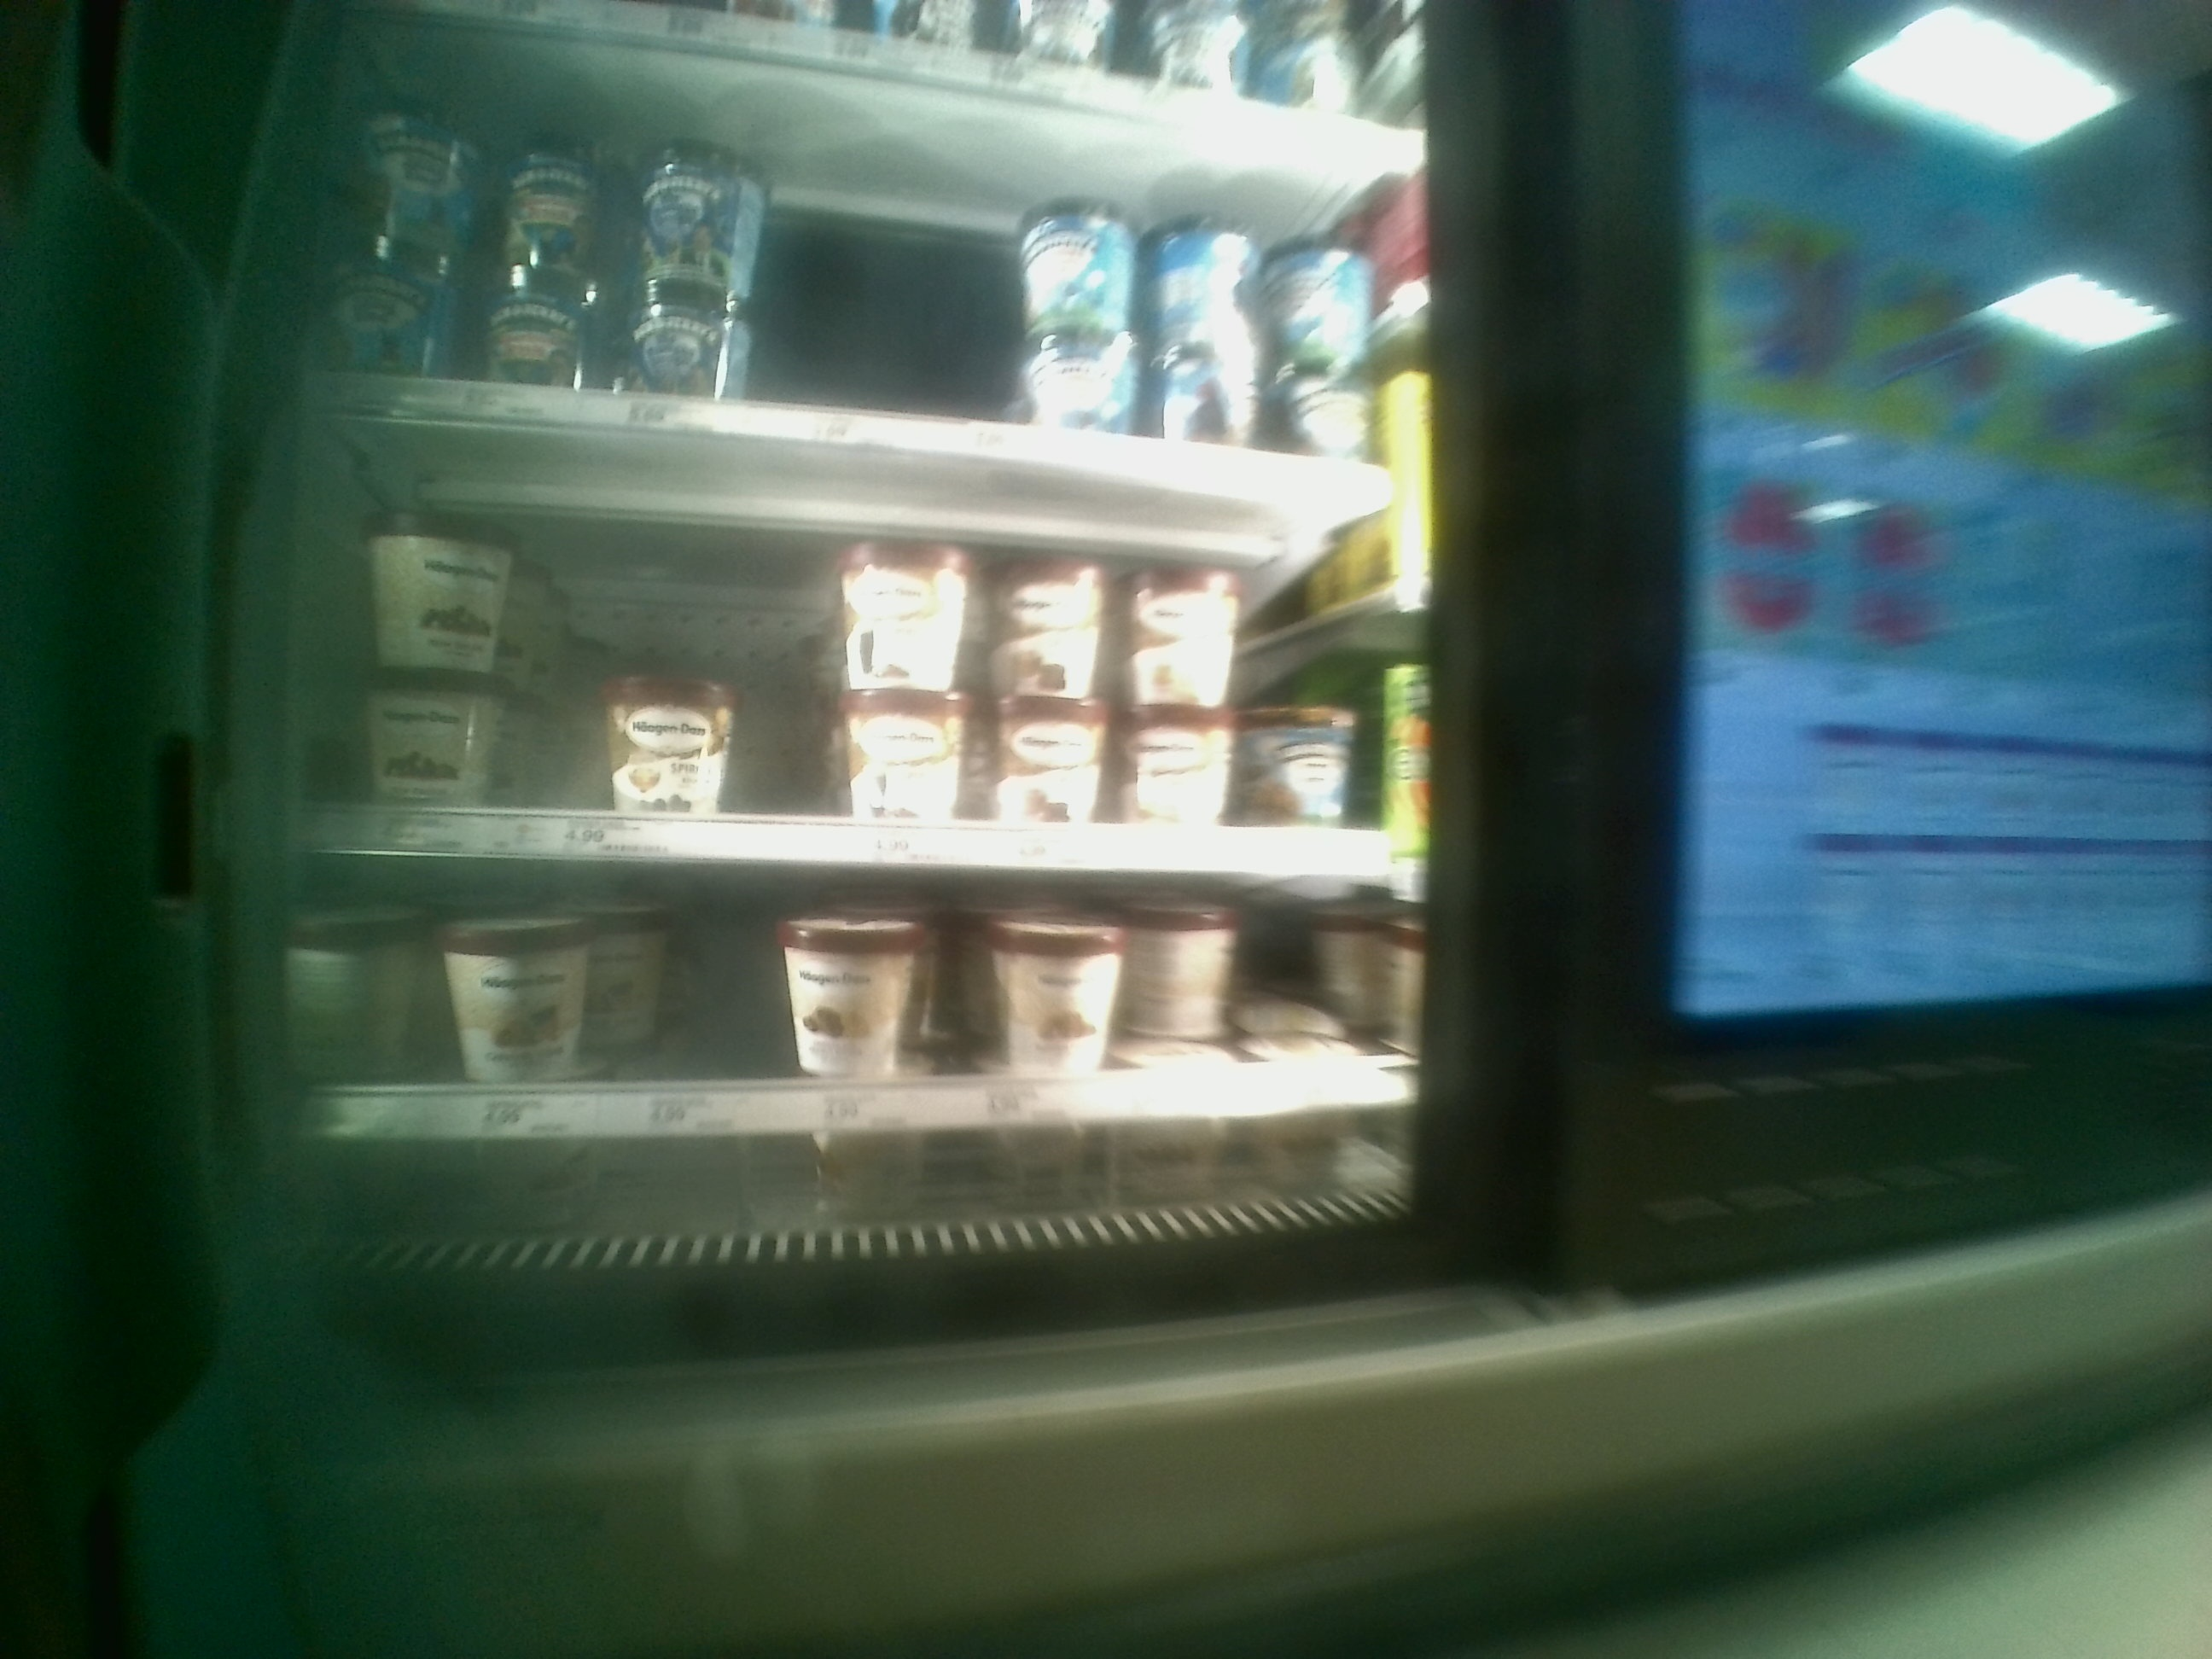shelf: (308, 397, 1433, 868), (298, 870, 1423, 1229)
